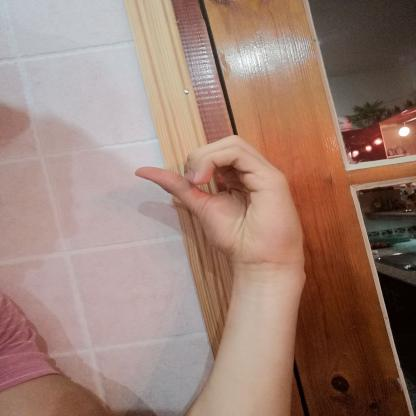WAW: (122, 124, 316, 278)
